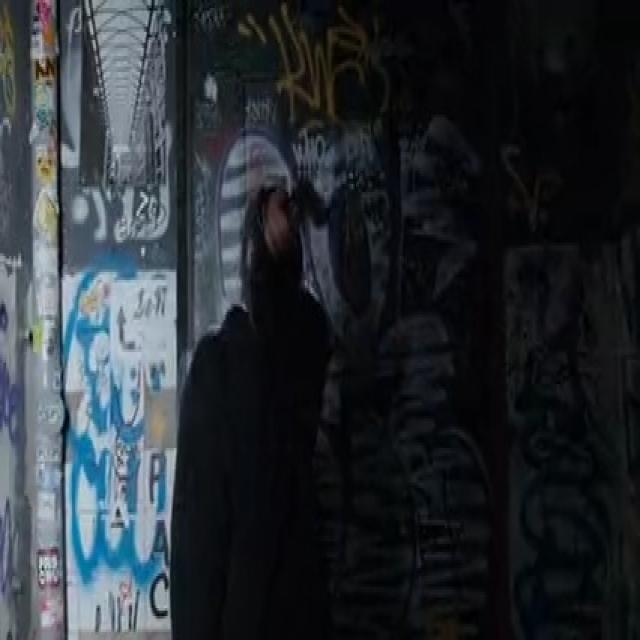Gun_Holder: (275, 146, 340, 274)
Person: (168, 176, 331, 640)
